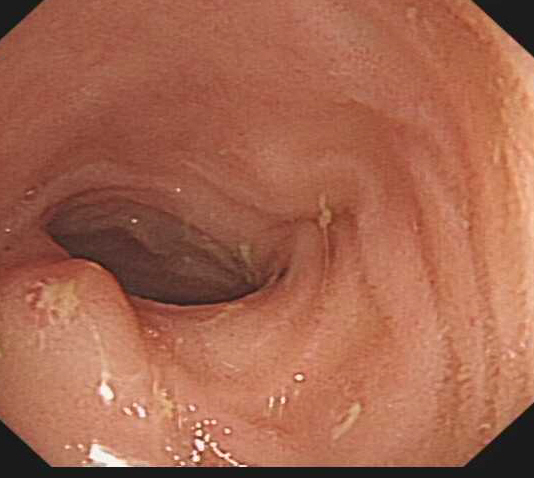others: (3, 256, 149, 432)
